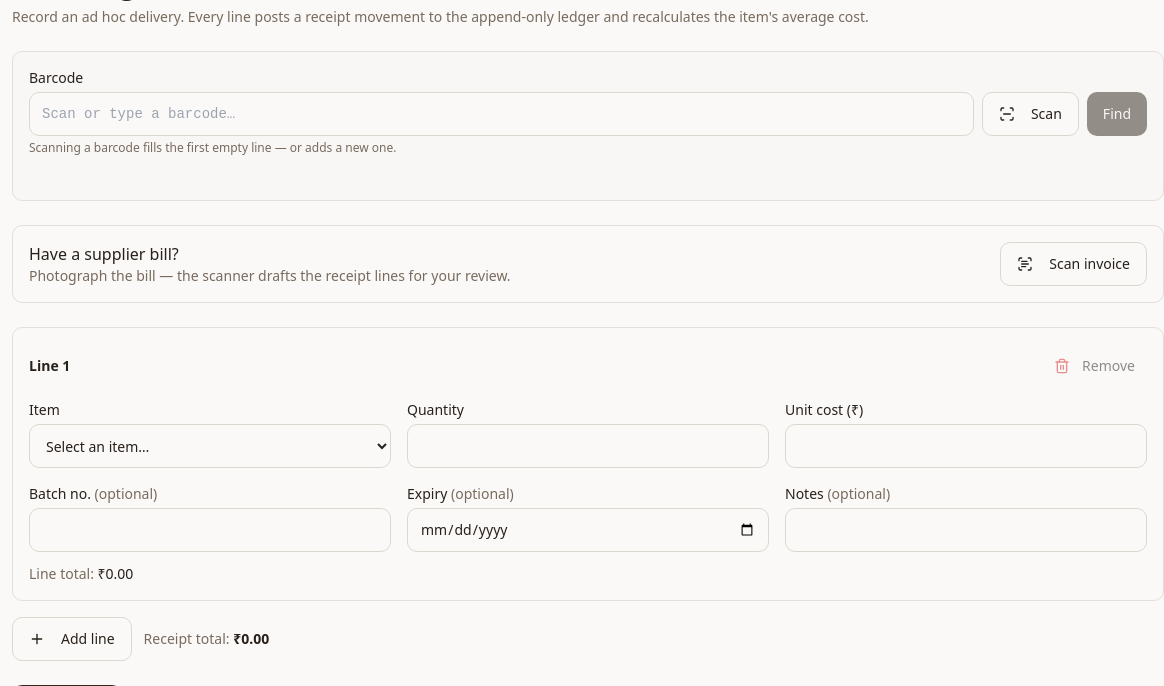
it: ReceivingPage › barcode quick-add fills the first empty line
Type "8901234567890" into the field labelled "Barcode".
click(501, 114); type("8901234567890")  # box [29, 92, 974, 136]
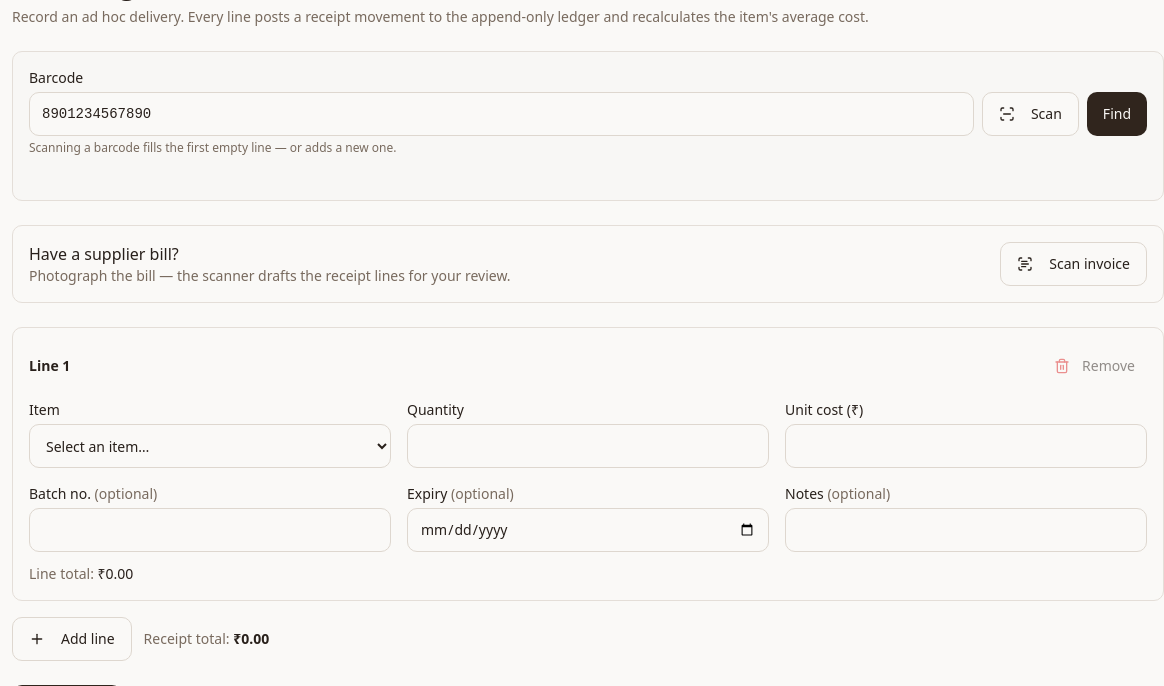
Click the button "Find".
click(1117, 114)  # box [1087, 92, 1147, 136]
(page scrolled)
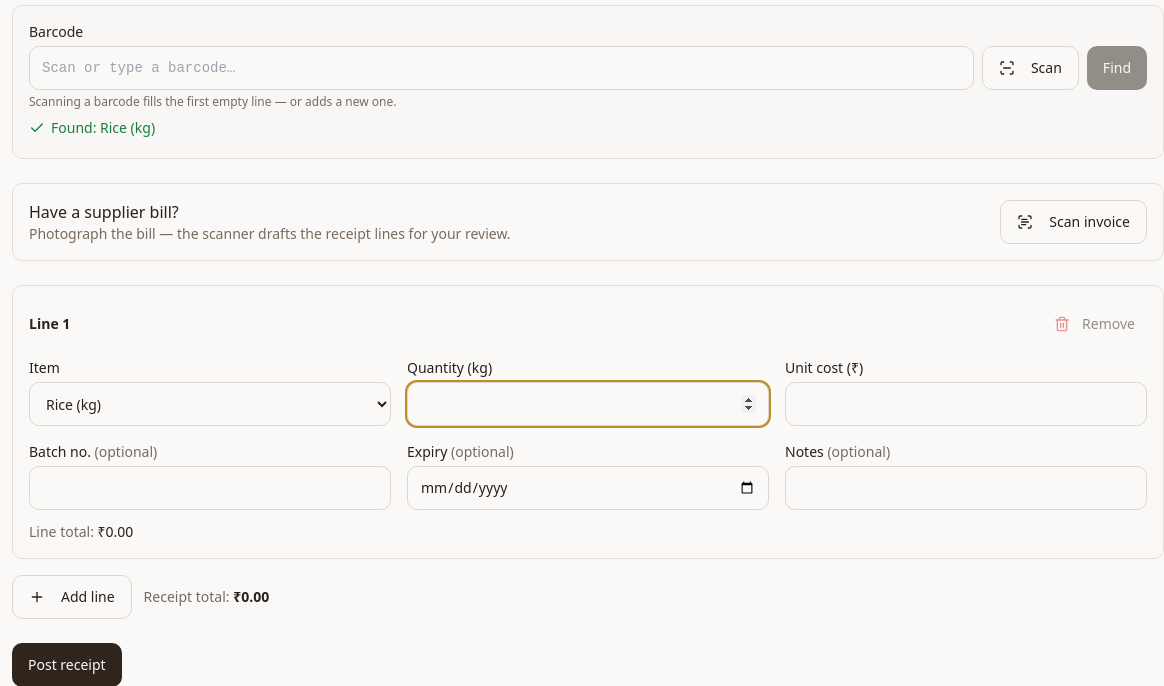
Now the dropdown labelled "Item" shows "Rice (kg)", box [29, 382, 391, 426]
Now the text "Found: Rice (kg)" is shown, box [29, 118, 155, 138]
